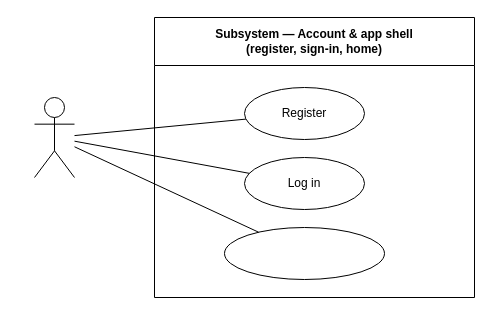
This 492x315 diagram has some shape labels left out. Here are the shapes that lost their labels. From the top down, the centre of each, then its label:
At pixel 54 137: "Farmer / User".
At pixel 304 253: "View home dashboard".
